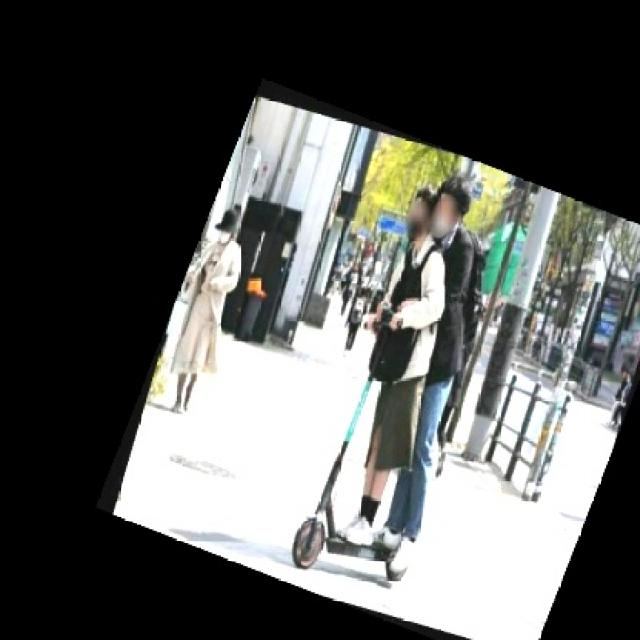bare_head: (387, 185, 439, 249), (427, 179, 473, 239)
human: (371, 182, 488, 545), (327, 186, 440, 542)
kickboard: (281, 500, 419, 590)
